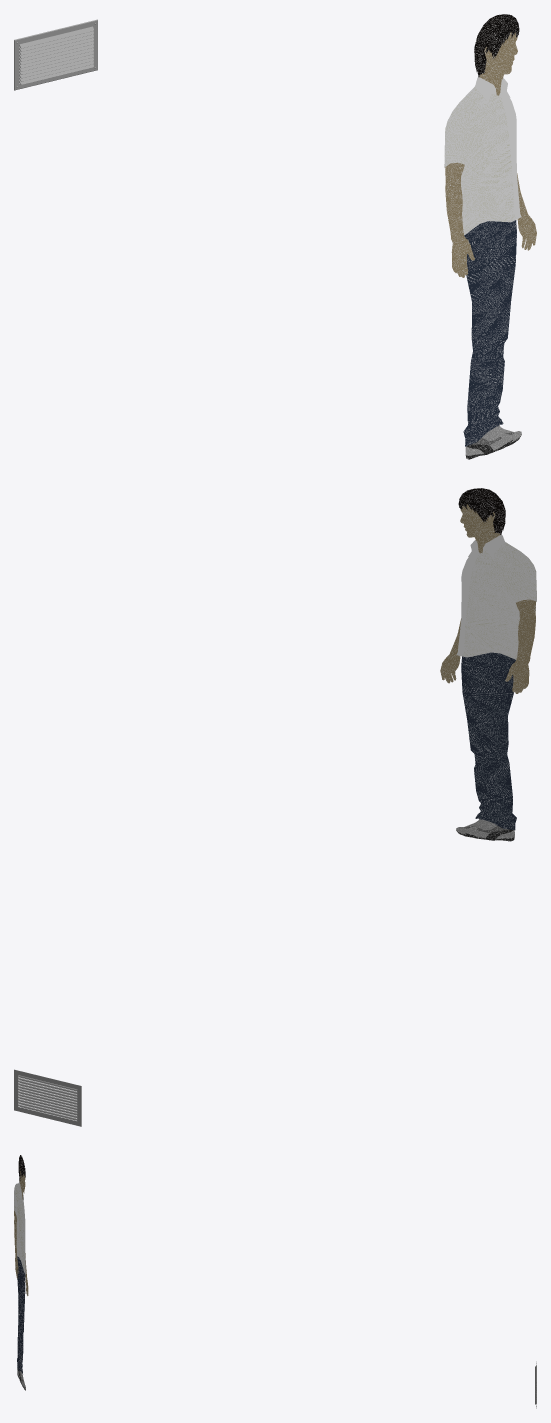
File: Vent.dae
3 renders of one model, top to bottom at view 1: azimuth 30°, elevation 25°; view 2: azimuth 150°, elevation 25°; view 3: azimuth 270°, elevation 25°, orthographic. The views are drawn at different scales.
Visible parts, largest first — view 1: Sang (×7), group_0; view 2: Sang (×6), group_0; view 3: Sang (×2).
Part boxes in pixels (x1=…): Sang (×7): x1=444, y1=14, x2=536, y2=446; group_0: x1=14, y1=19, x2=97, y2=90; Sang (×6): x1=456, y1=488, x2=536, y2=830; group_0: x1=14, y1=1070, x2=80, y2=1126; Sang (×2): x1=14, y1=1183, x2=25, y2=1373.
Bounding box in the file's own units: 25.16 × 143 × 69.24.
